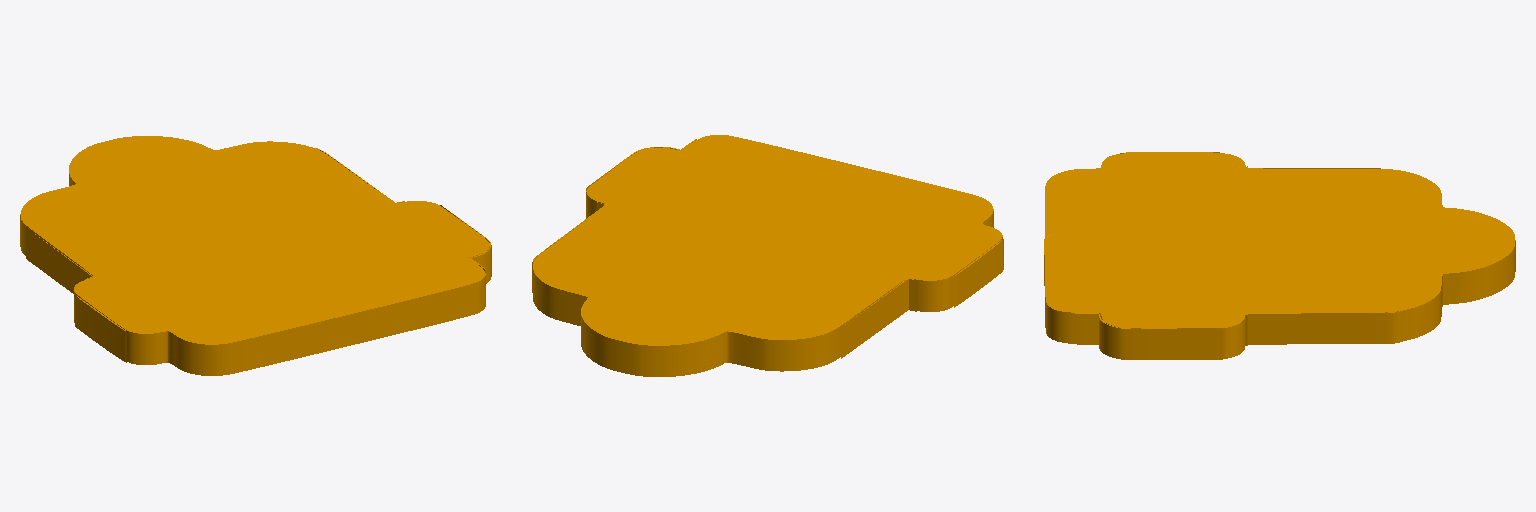
robot.urdf — i3.urdf:
<?xml version="1.0" encoding="utf-8"?>
<robot name="i3.urdf">
  <link name="baseLink">
    <contact>
      <lateral_friction value="0.5"/>
      <rolling_friction value="0.001"/>
      <spinning_friction value="0.001"/>
    </contact>
    <inertial>
      <origin rpy="0 0 0" xyz="0 0 0"/>
      <mass value="0.07"/>
      <inertia ixx="1" ixy="0" ixz="0" iyy="1" iyz="0" izz="1"/>
    </inertial>
    <visual>
      <origin rpy="0 0 0" xyz="0 0 0"/>
      <geometry>
        <mesh filename="i3.obj" scale="0.2 0.2 0.1"/> <!-- Scale x and y by 3.5, z by 1.0 -->
      </geometry>
    </visual>
    <collision>
      <origin rpy="0 0 0" xyz="0 0 0"/>
      <geometry>
        <mesh filename="i3.obj" scale="0.2 0.2 0.1"/> <!-- Scale x and y by 3.5, z by 1.0 -->
      </geometry>
    </collision>
  </link>
</robot>

--- Facts derived from the render (not from the file) ---
3 views of the same robot in one strip: view 1: azimuth 30°, elevation 25°; view 2: azimuth 150°, elevation 25°; view 3: azimuth 270°, elevation 25° (orthographic).
Model i3.urdf with 1 links and 0 joints (none), rooted at baseLink, posed every joint at zero.
Links seen in each view (by area): view 1: baseLink; view 2: baseLink; view 3: baseLink.
Boxes of the visible links, bbox=[...] form: baseLink: bbox=[20, 136, 491, 375]; baseLink: bbox=[532, 135, 1003, 376]; baseLink: bbox=[1044, 152, 1515, 359].
Size in the robot's own frame: 0.4829 by 0.5427 by 0.0394 metres.
1 mesh visuals loaded from 1 distinct referenced files (1 OBJ).